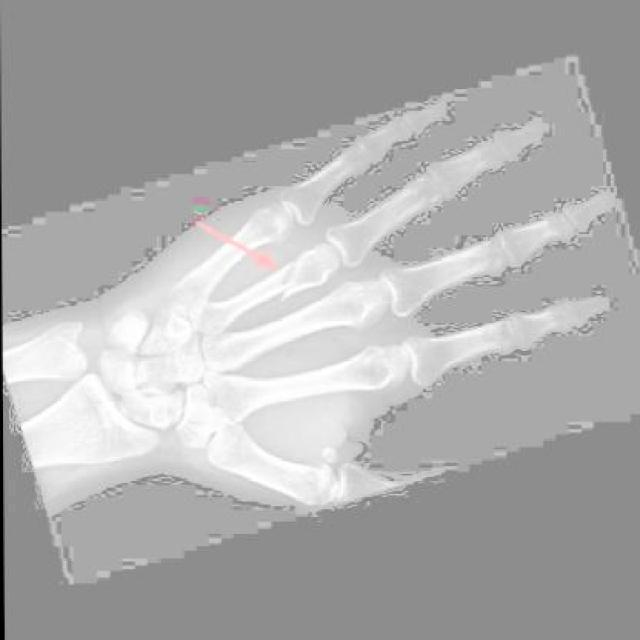Fracture: (263, 243, 321, 305)
